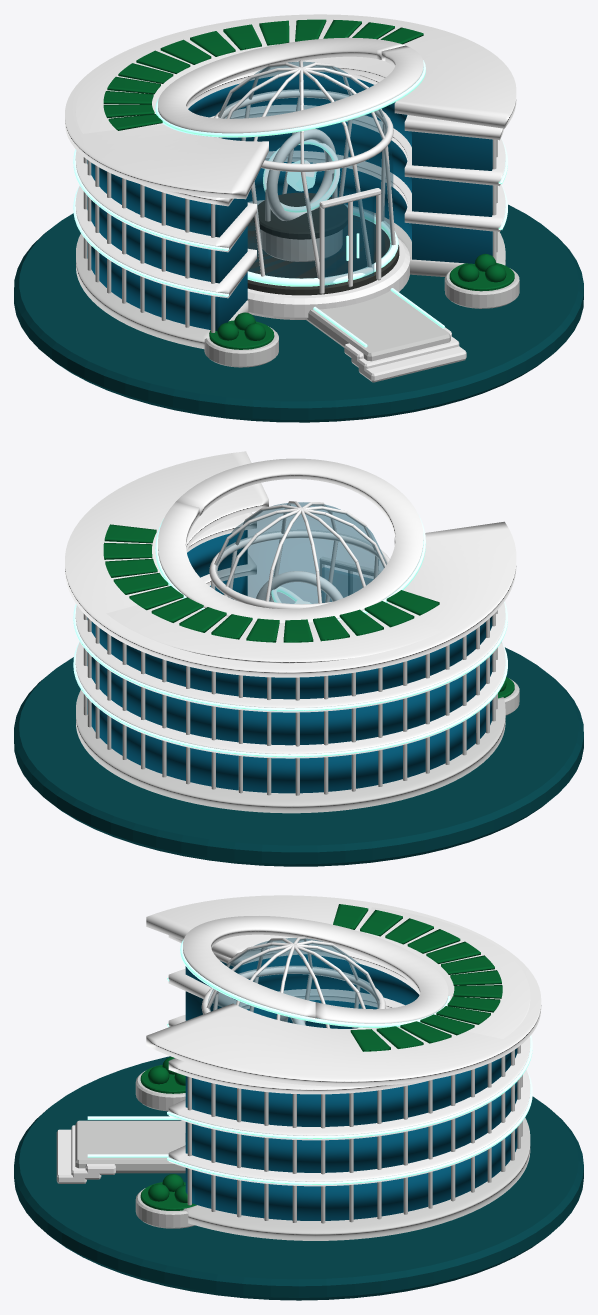
The model's file is user-facility.glb.
The picture shows the model from 3 angles, top to bottom: view 1: azimuth 30°, elevation 25°; view 2: azimuth 150°, elevation 25°; view 3: azimuth 270°, elevation 25°; orthographic projection.
Parts seen in each view (by area): view 1: body, pedestal; view 2: body, pedestal; view 3: body, pedestal.
Part boxes in pixels (left/top/right/bottom): body: left=65, top=14, right=519, bottom=382; pedestal: left=14, top=204, right=583, bottom=422; body: left=65, top=451, right=519, bottom=813; pedestal: left=14, top=647, right=583, bottom=866; body: left=56, top=895, right=541, bottom=1240; pedestal: left=14, top=1056, right=583, bottom=1300.
Bounding box in the file's own units: 4.4 × 2.04 × 4.4.
